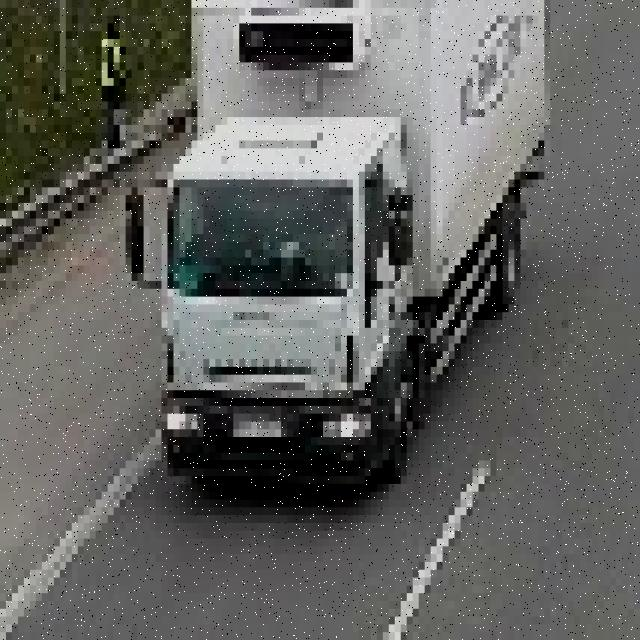truck: (138, 0, 556, 476)
